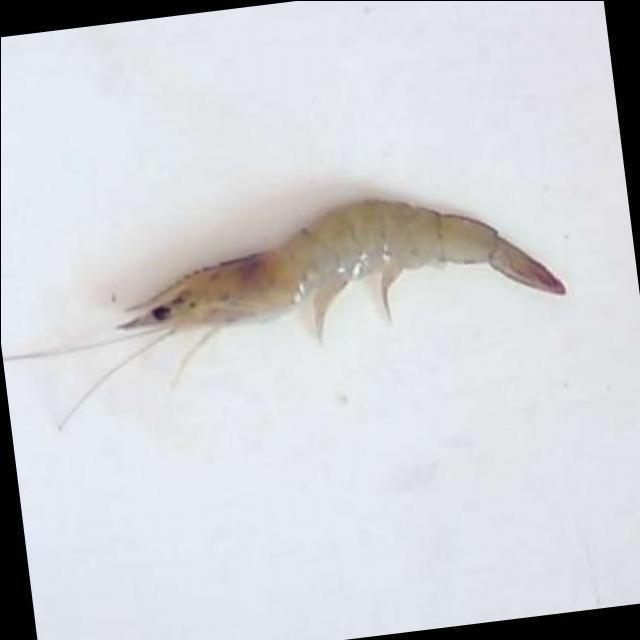shrimp: (118, 202, 565, 341)
